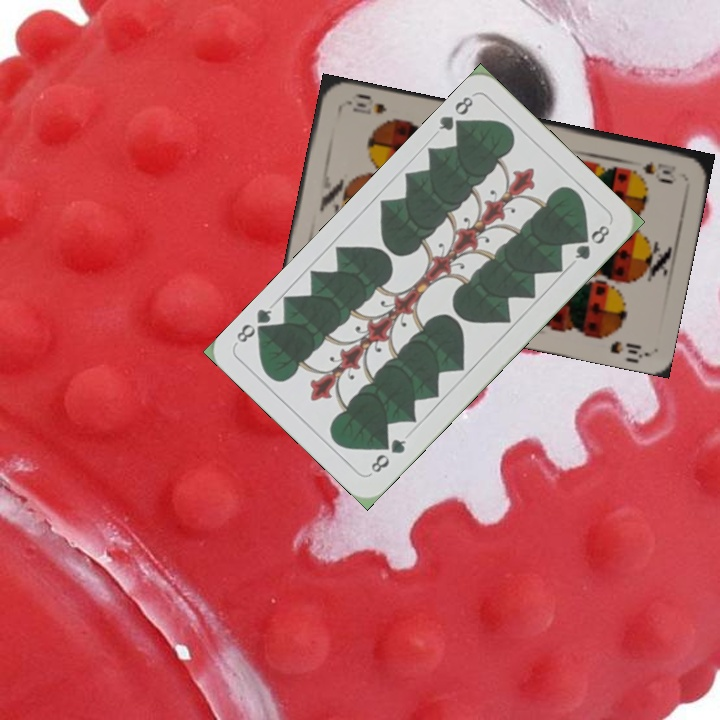G8: (435, 92, 476, 137), (366, 434, 409, 476)
S10: (638, 156, 678, 178)
